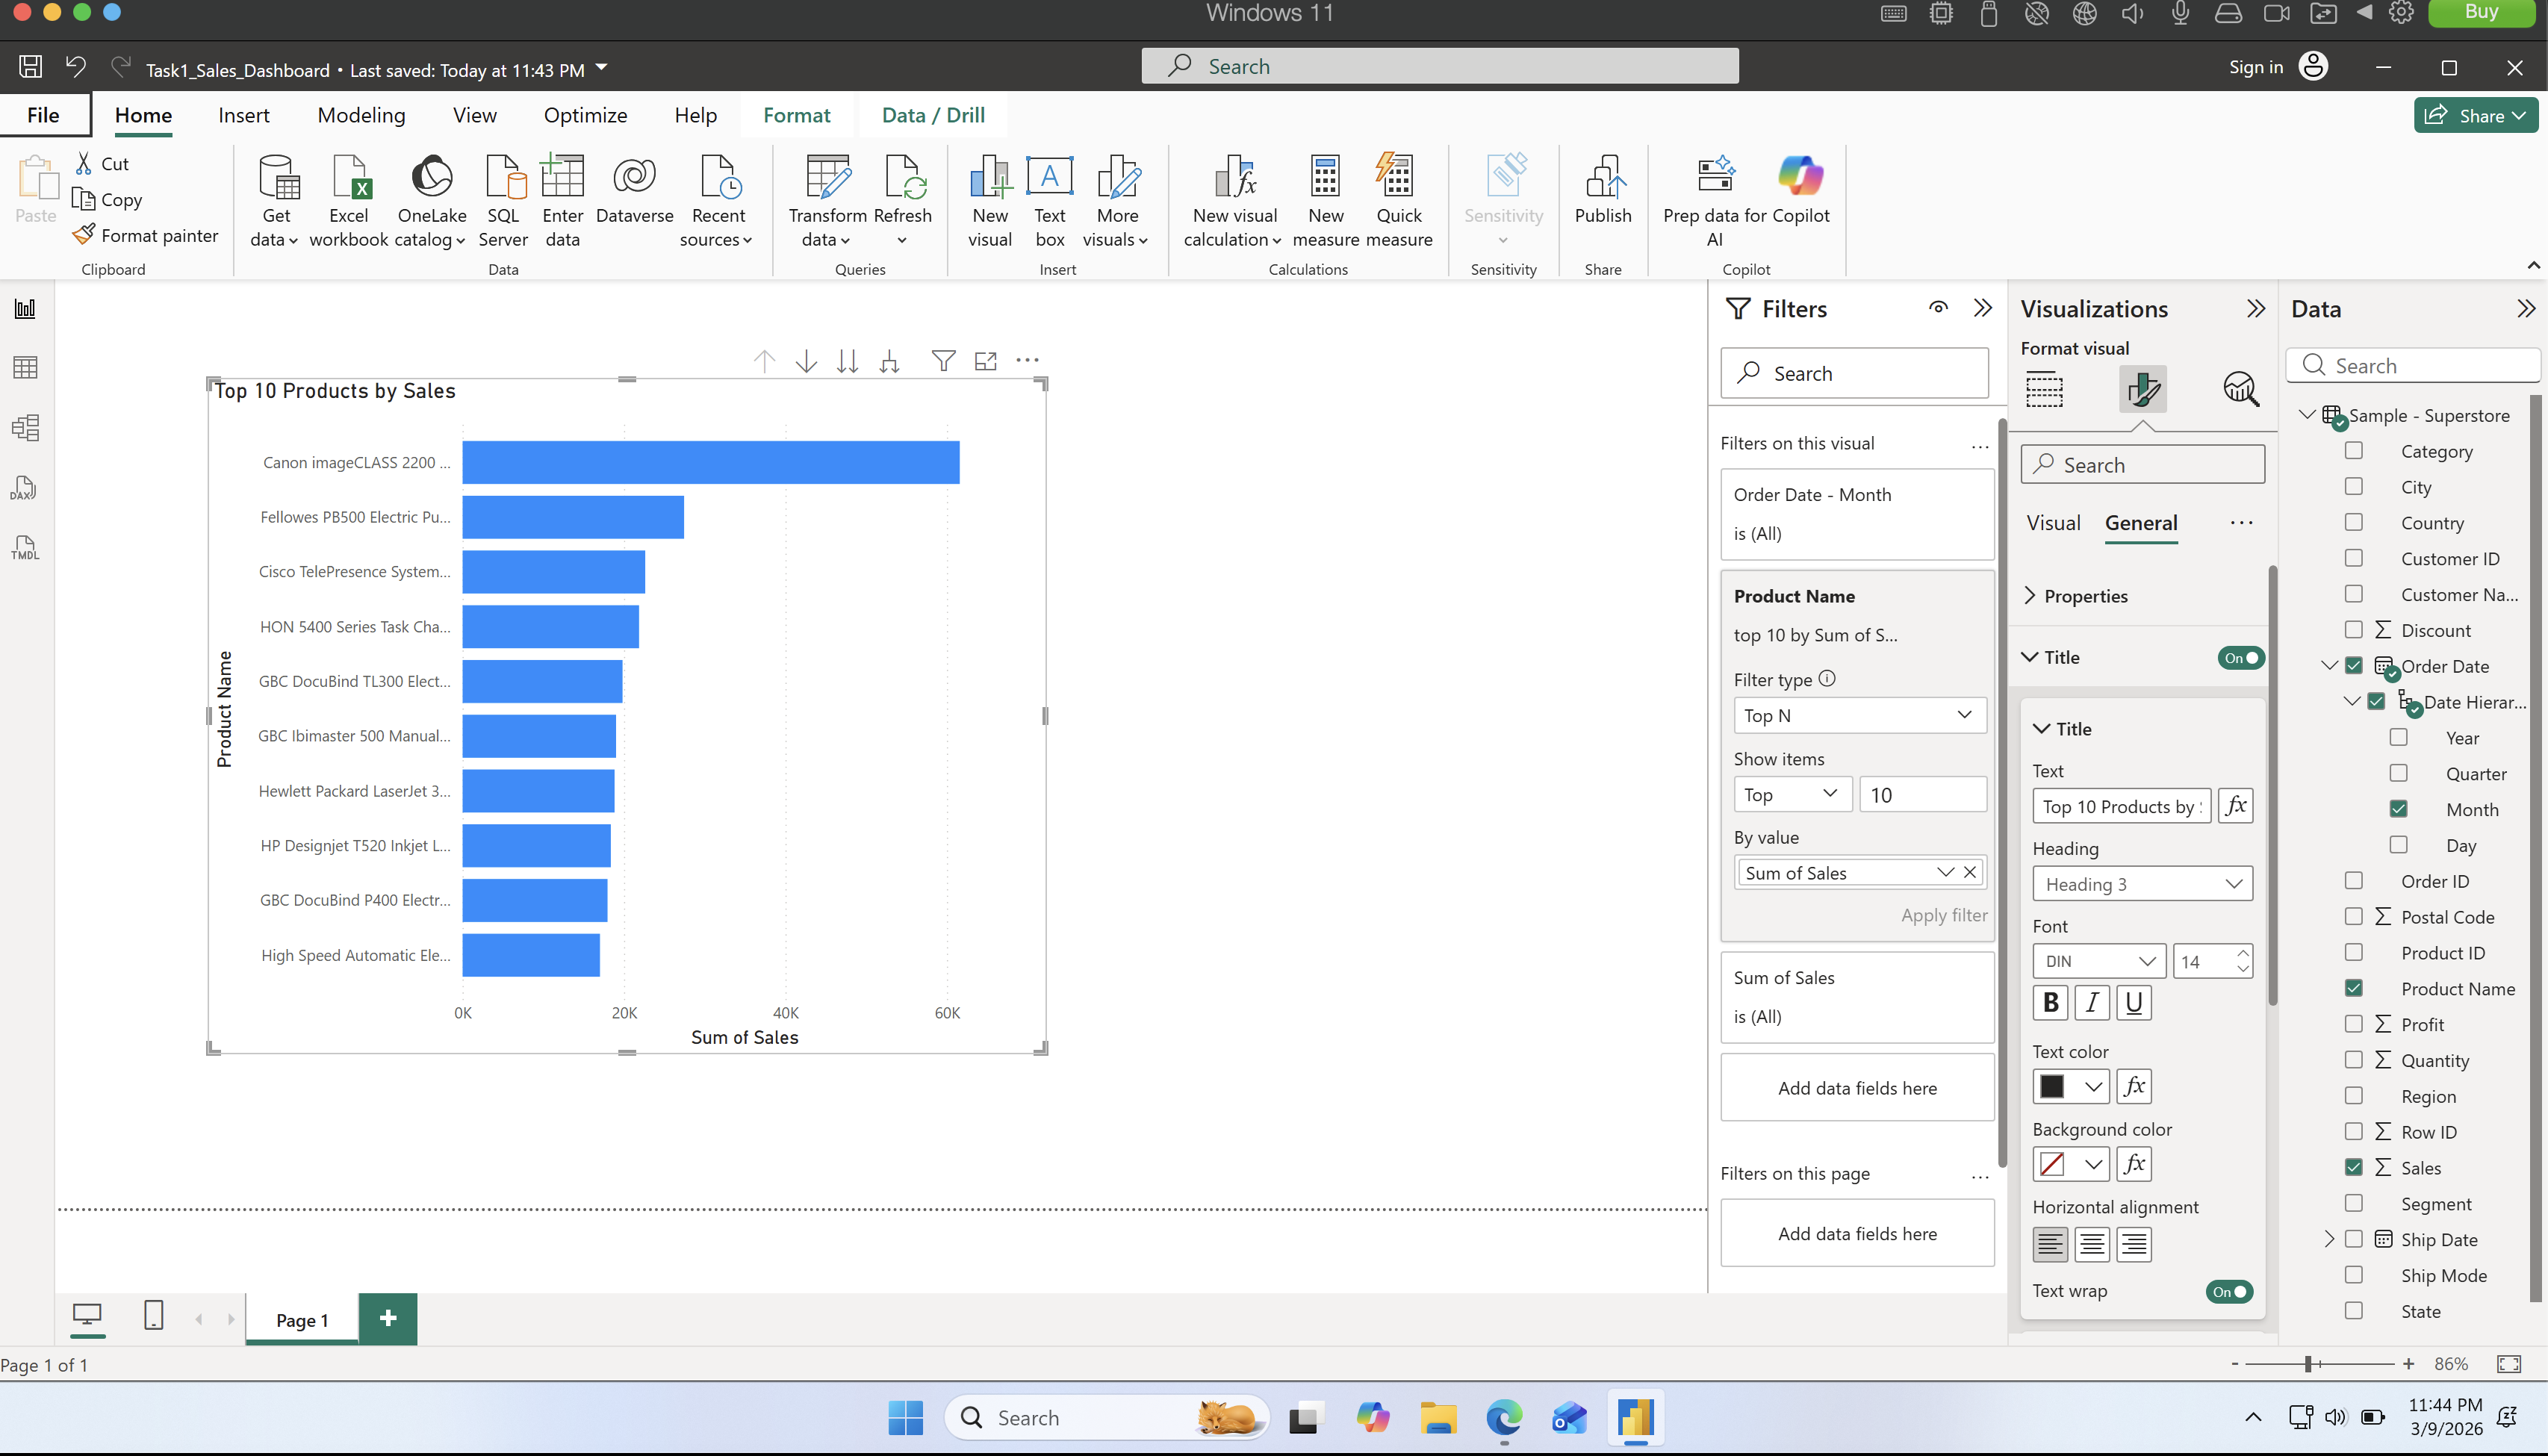

Layout of this report page (visuals, bound fields, positions):
{"tool":"powerbi","page":{"name":"Page 1","canvas":[1280,720],"ordinal":0},"visuals":[{"type":"clusteredBarChart","title":"Top 10 Products by Sales","fields":{"Category":["Sample - Superstore.Product Name","Sample - Superstore.Order Date.Variation.Date Hierarchy.Month"],"Y":["Sum(Sample - Superstore.Sales)","Sum(Sample - Superstore.Sales)"]},"box":[118,76.4,650.4,524.3],"z":0}]}

Visuals, with their boxes on the page's 1280x720 design canvas (x1, y1, x2, y2). These are canvas units, not pixel positions in the 2548x1456 screenshot, which may show the page scaled, cropped or inside an application window:
"Top 10 Products by Sales" clusteredBarChart: [118, 76, 768, 601]
